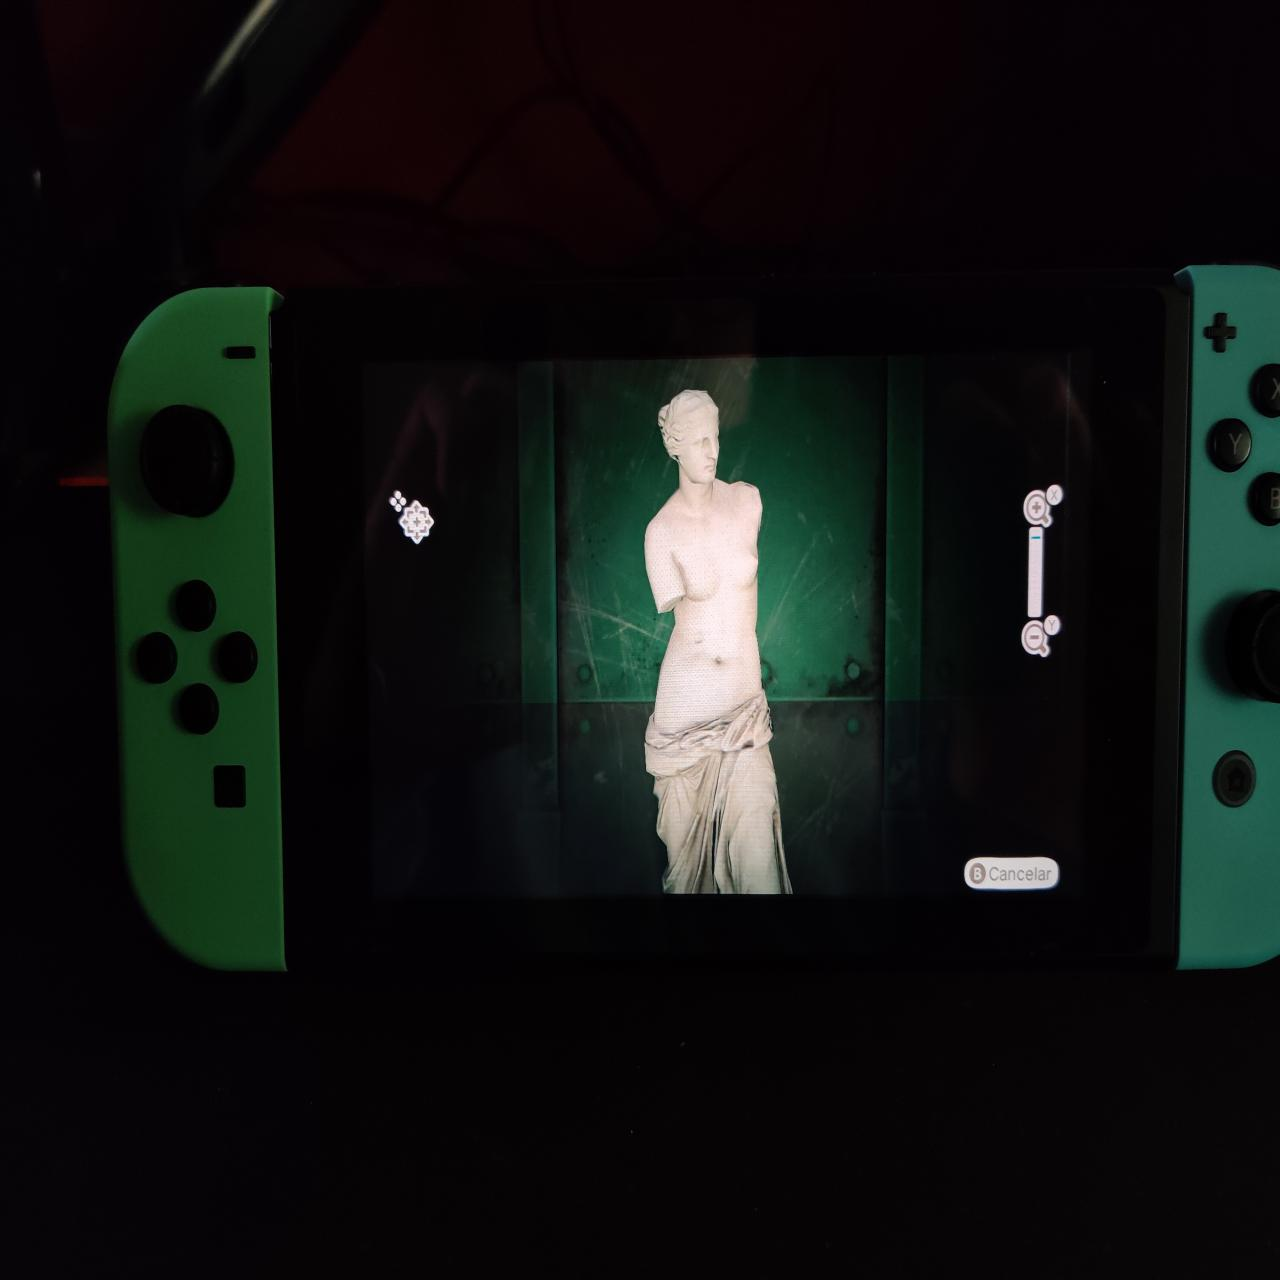Milo: (638, 375, 797, 896)
